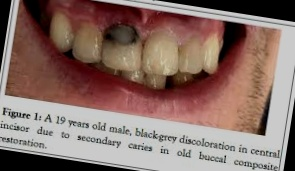Tooth Discoloration: (99, 21, 144, 53)
